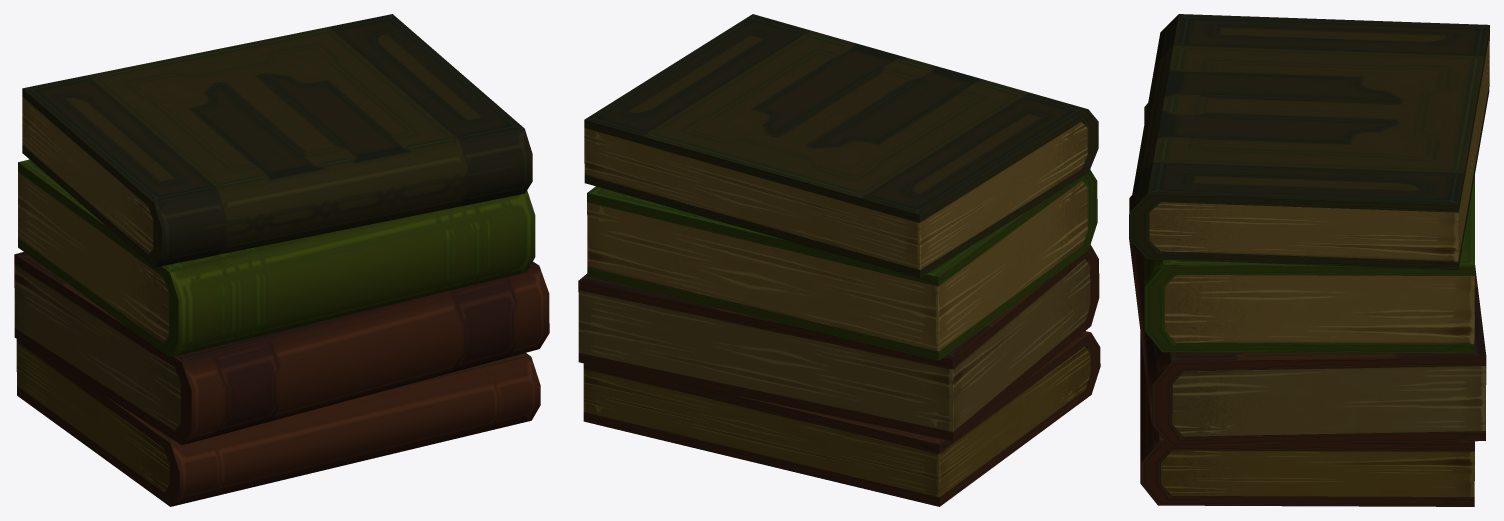
The model's file is Book_Stack_1.gltf.
The picture shows the model from 3 angles, left to right: view 1: azimuth 30°, elevation 25°; view 2: azimuth 150°, elevation 25°; view 3: azimuth 270°, elevation 25°; orthographic projection. The views are drawn at different scales.
Visible parts, largest first — view 1: Book_Stack_1; view 2: Book_Stack_1; view 3: Book_Stack_1.
Boxes of the visible parts, x1,y1,x2,y2 form: Book_Stack_1: [14, 14, 549, 506]; Book_Stack_1: [578, 14, 1100, 506]; Book_Stack_1: [1129, 14, 1489, 506].
Bounding box in the file's own units: 0.2849 × 0.2137 × 0.2263.
Materials: 1 (1 with a texture image).
